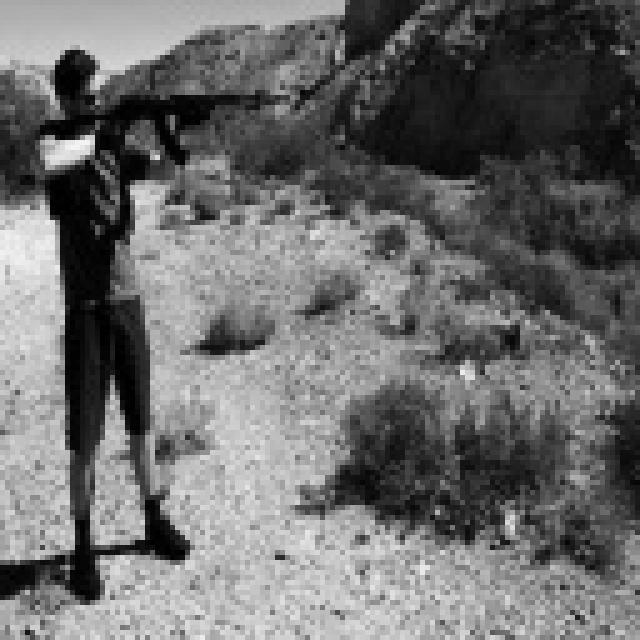Rifle: (0, 76, 306, 188)
